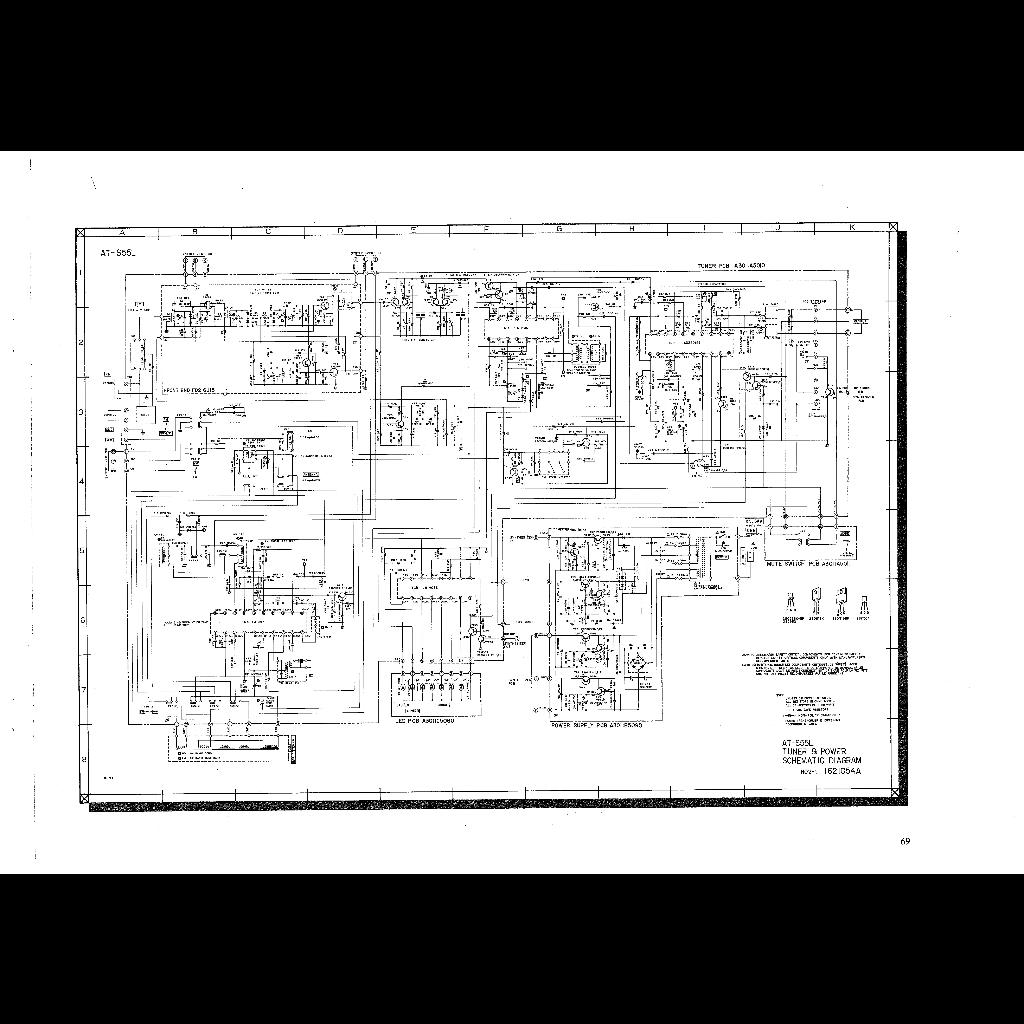Diagram: (86, 234, 888, 786)
